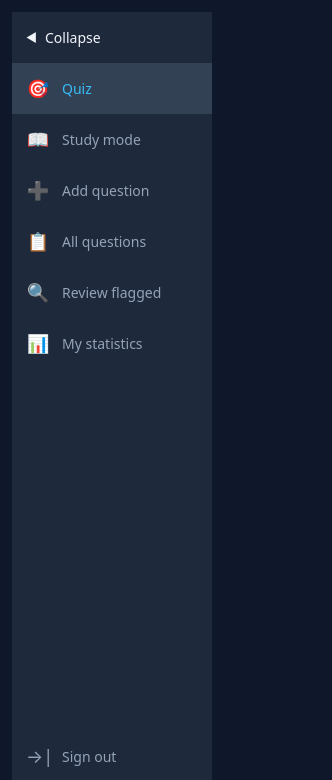
Test: AppSidebar › collapses when toggle button is clicked
Click the button with class "sidebar-toggle": (112, 38) [12, 12, 212, 63]
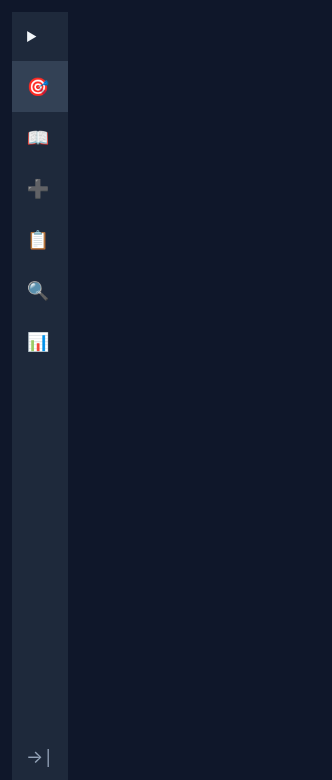
Expected: no elements with class "link-label" are shown
